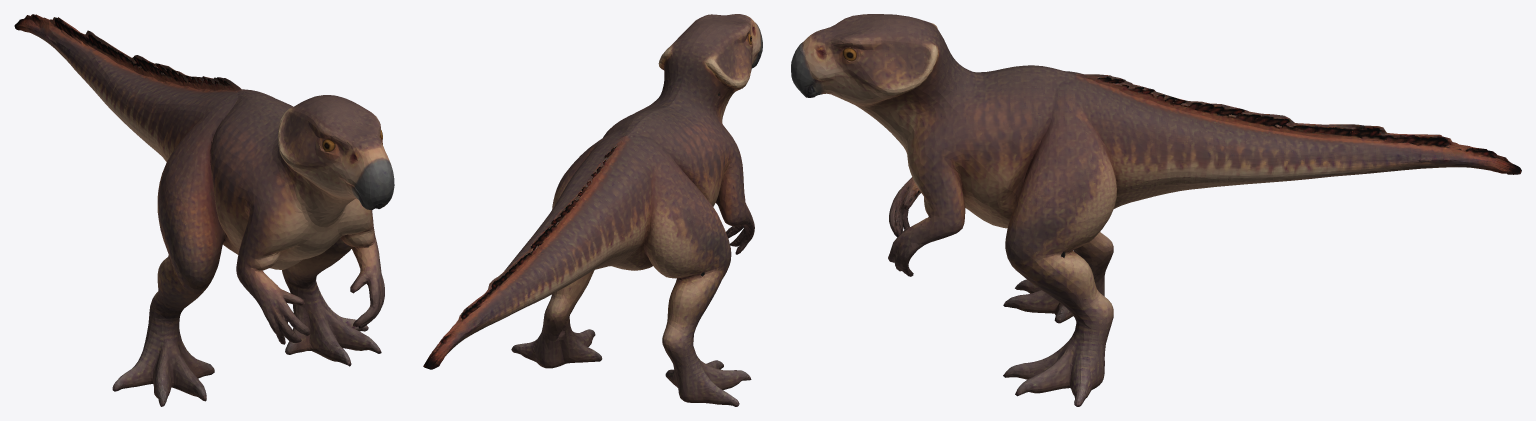
3 views of the same model, side by side, from view 1: azimuth 30°, elevation 25°; view 2: azimuth 150°, elevation 25°; view 3: azimuth 270°, elevation 25° (orthographic). The views are drawn at different scales.
Visible parts, largest first — view 1: world; view 2: world; view 3: world.
Part boxes in pixels (x1,y1,x2,y2): world: (14,14,394,406); world: (423,14,762,406); world: (791,14,1521,406).
Bounding box in the file's own units: 0.7246 × 0.8911 × 1.8.
2 materials, 1 textured.
